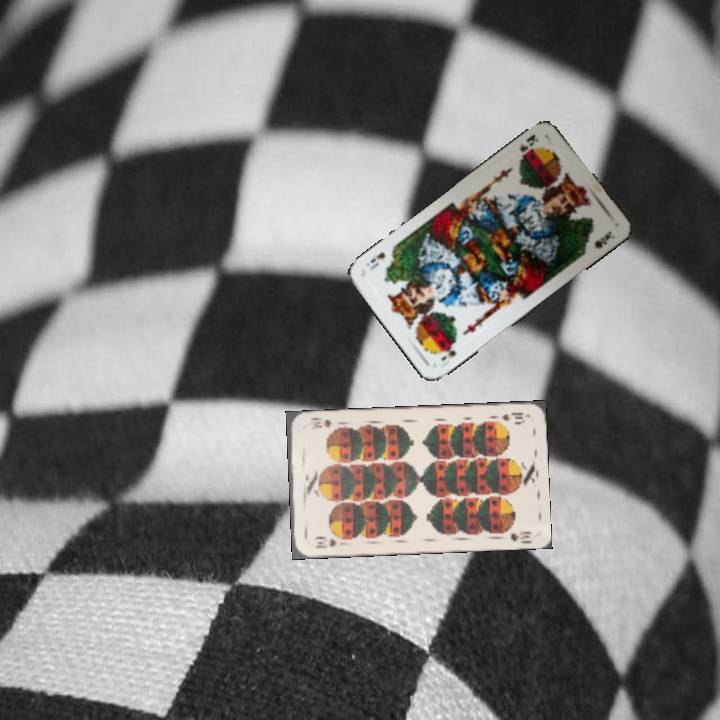S10: (311, 534, 347, 551), (498, 408, 527, 424)
SK: (514, 130, 541, 164), (437, 342, 459, 364)
